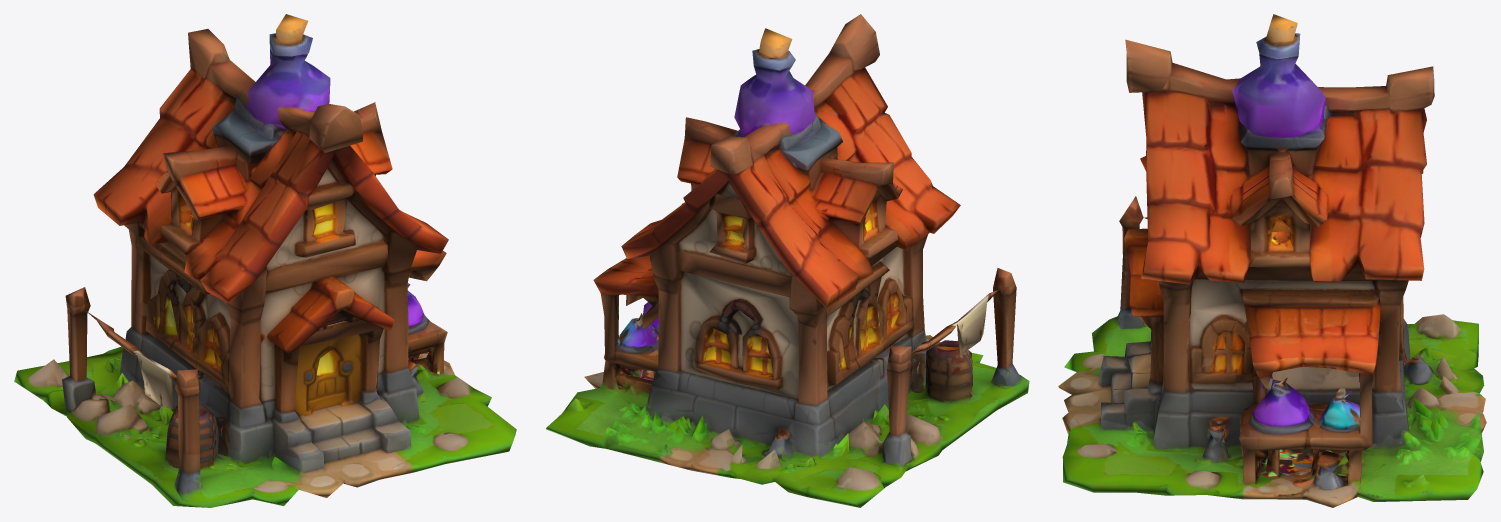
File: Craft.glb
3 views of the same model, side by side, from view 1: azimuth 30°, elevation 25°; view 2: azimuth 150°, elevation 25°; view 3: azimuth 270°, elevation 25° (orthographic). The views are drawn at different scales.
Parts seen in each view (by area): view 1: Mesh1.0; view 2: Mesh1.0; view 3: Mesh1.0.
Part boxes in pixels (left/top/right/bottom): Mesh1.0: left=14, top=14, right=516, bottom=507; Mesh1.0: left=546, top=14, right=1029, bottom=507; Mesh1.0: left=1058, top=14, right=1486, bottom=507.
Bounding box in the file's own units: 1.87 × 1.91 × 1.84.
Materials: 1 (1 with a texture image).
